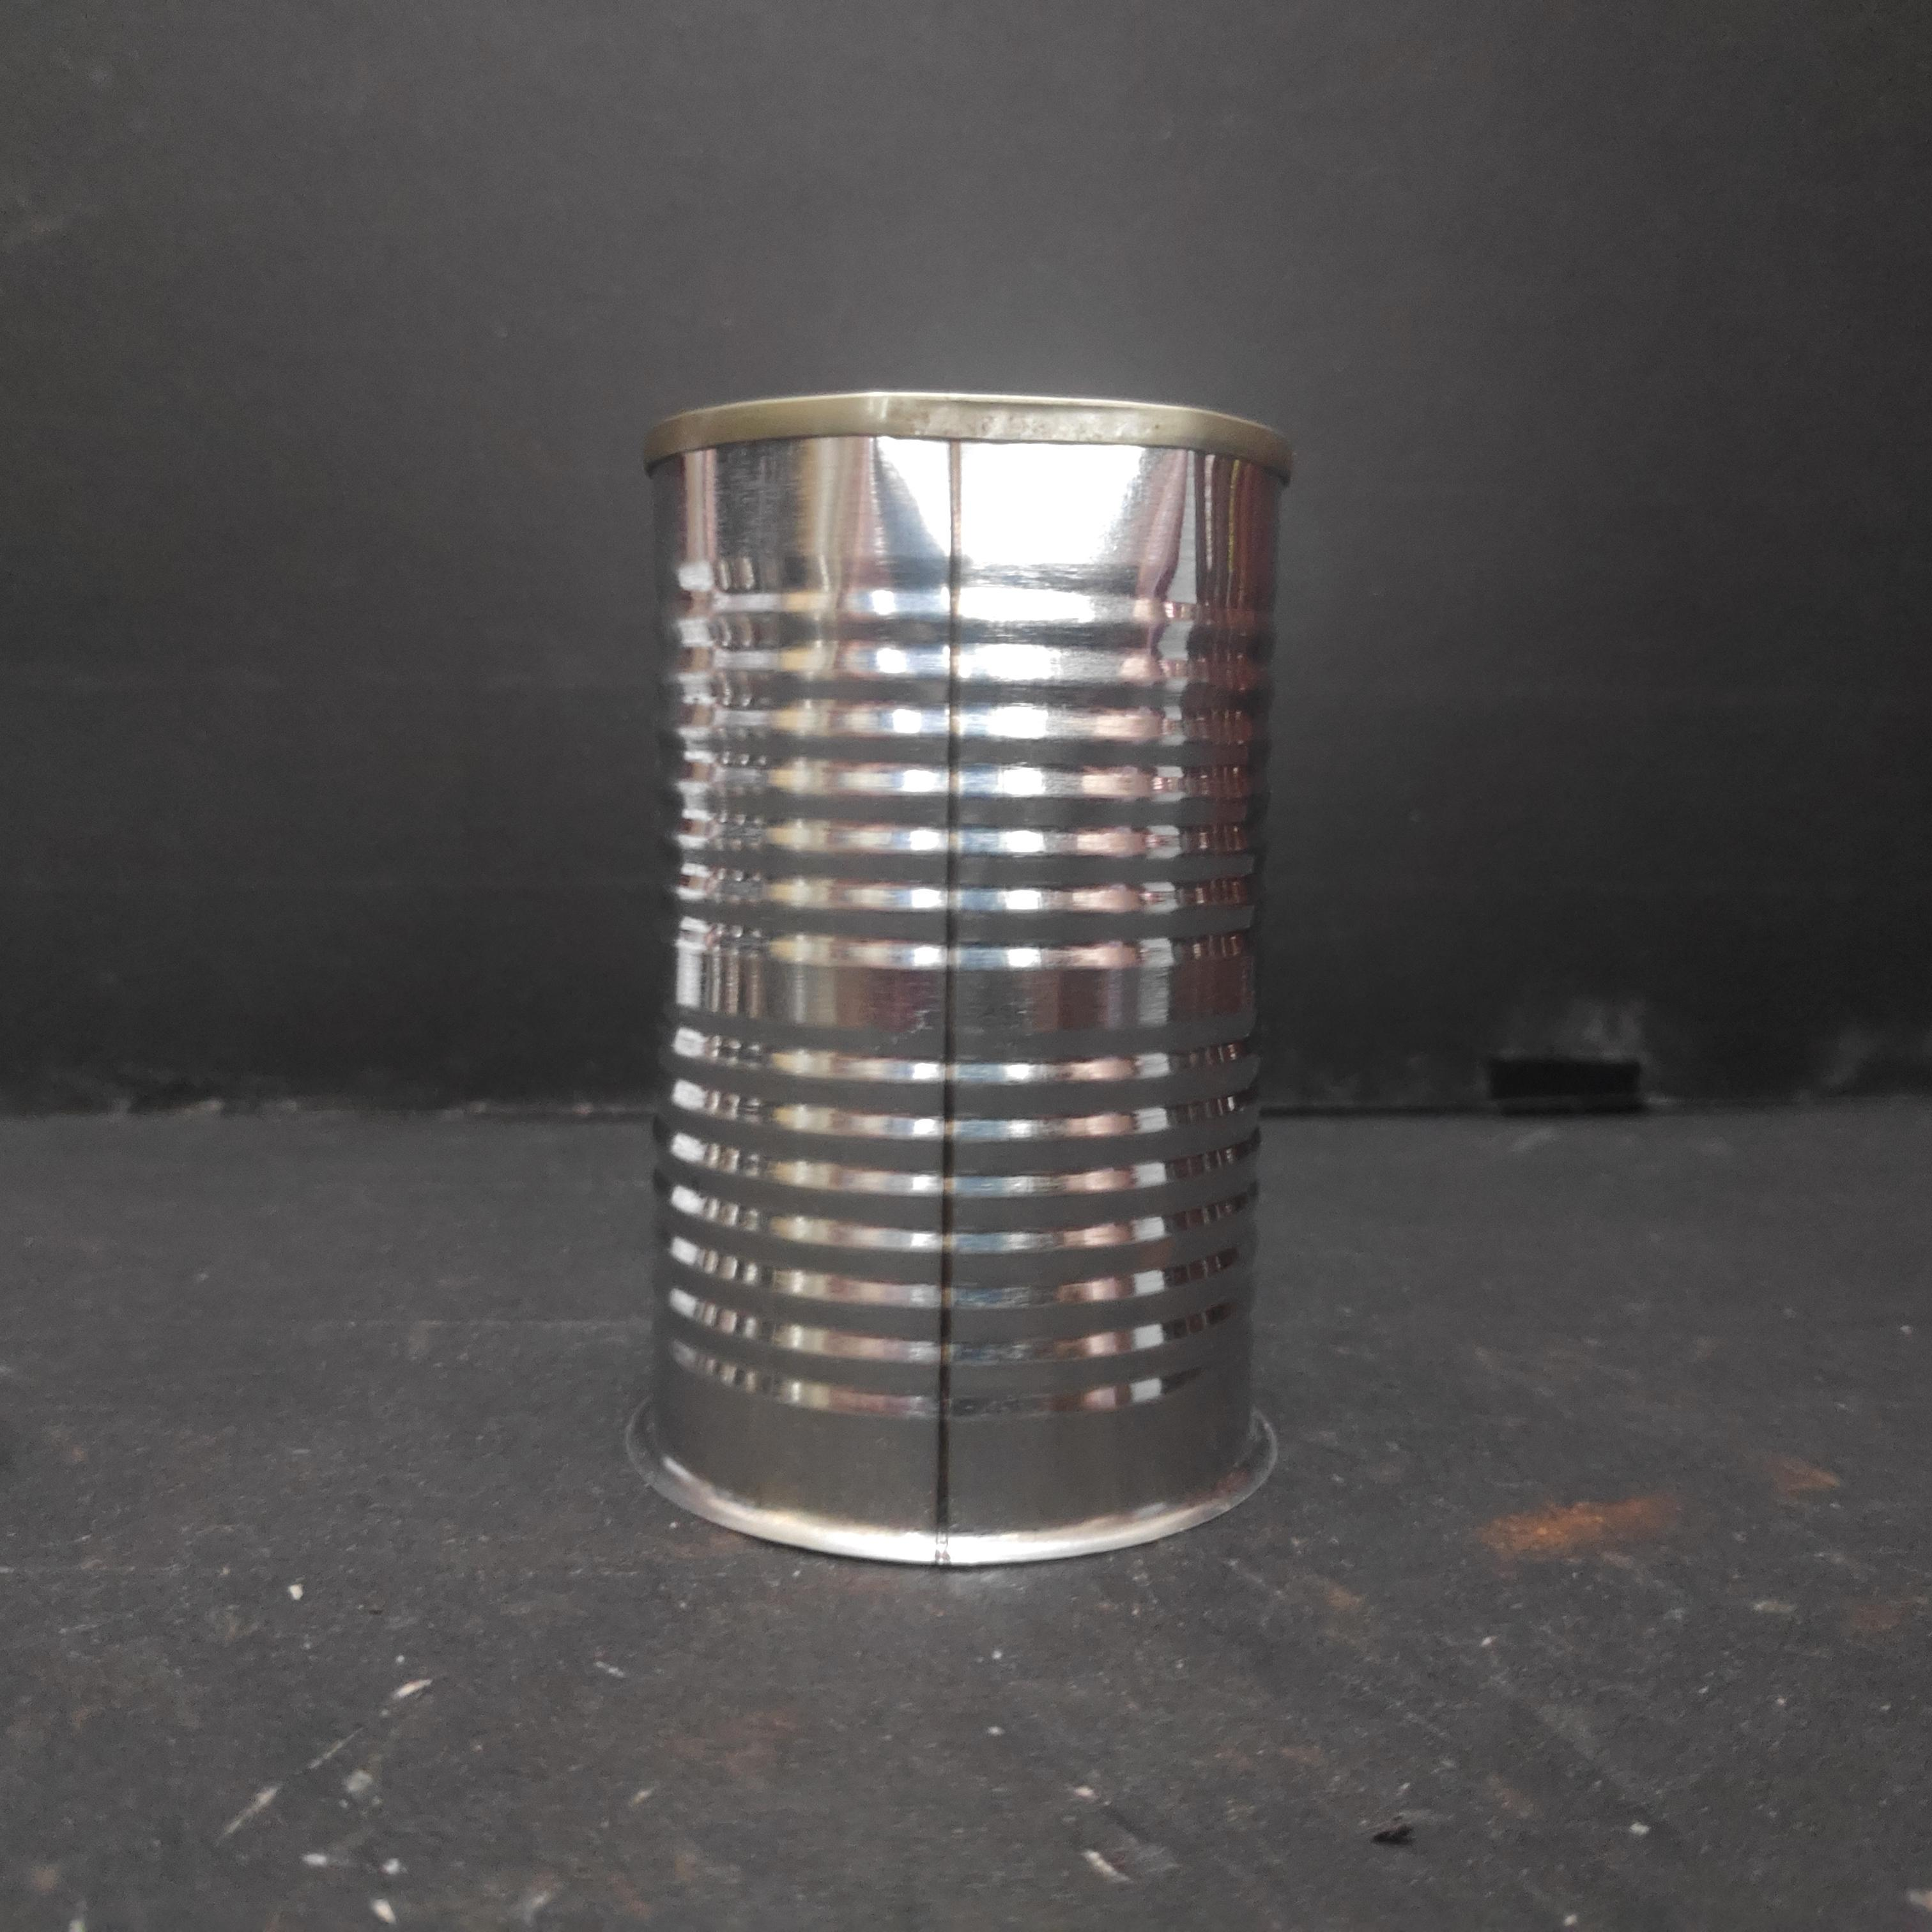Minor Defect: (628, 384, 1297, 1576)
